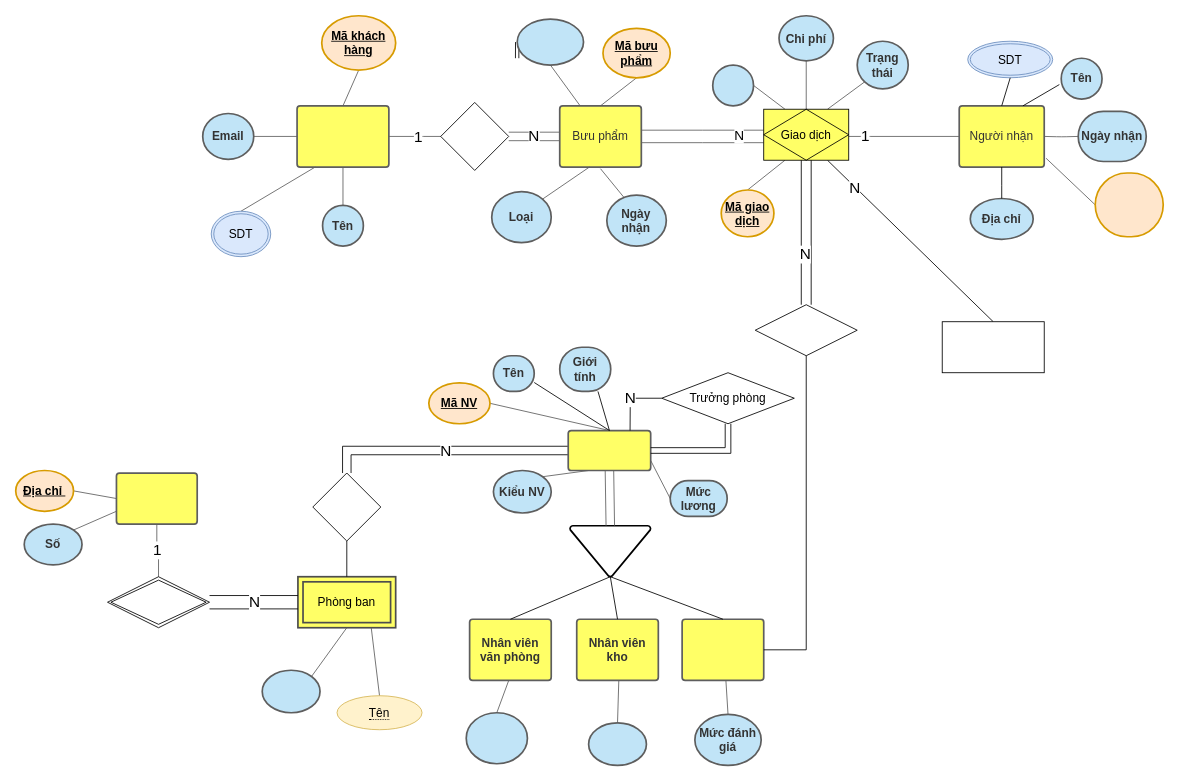
This 1178x780 diagram has some shape labels left out. Each missing label, with the box of its shape:
Chi nhánh: (115, 472, 198, 524)
Chức năng: (261, 669, 320, 713)
Gồm: (107, 576, 210, 628)
ISA: (569, 524, 651, 577)
Khách hàng: (296, 105, 389, 167)
Mã người nhận: (1094, 172, 1164, 237)
Ngày giao: (711, 64, 754, 106)
Nhân viên: (567, 429, 651, 471)
Nhân viên giao hàng: (681, 618, 764, 681)
Phương thức giao hàng: (941, 321, 1044, 373)
Sở hữu: (440, 102, 509, 170)
Thuộc: (312, 472, 381, 541)
Thực hiện: (754, 304, 857, 356)
Tên bưu phẩm: (516, 18, 584, 65)
